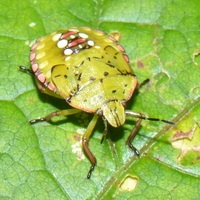insect: (20, 27, 160, 178)
